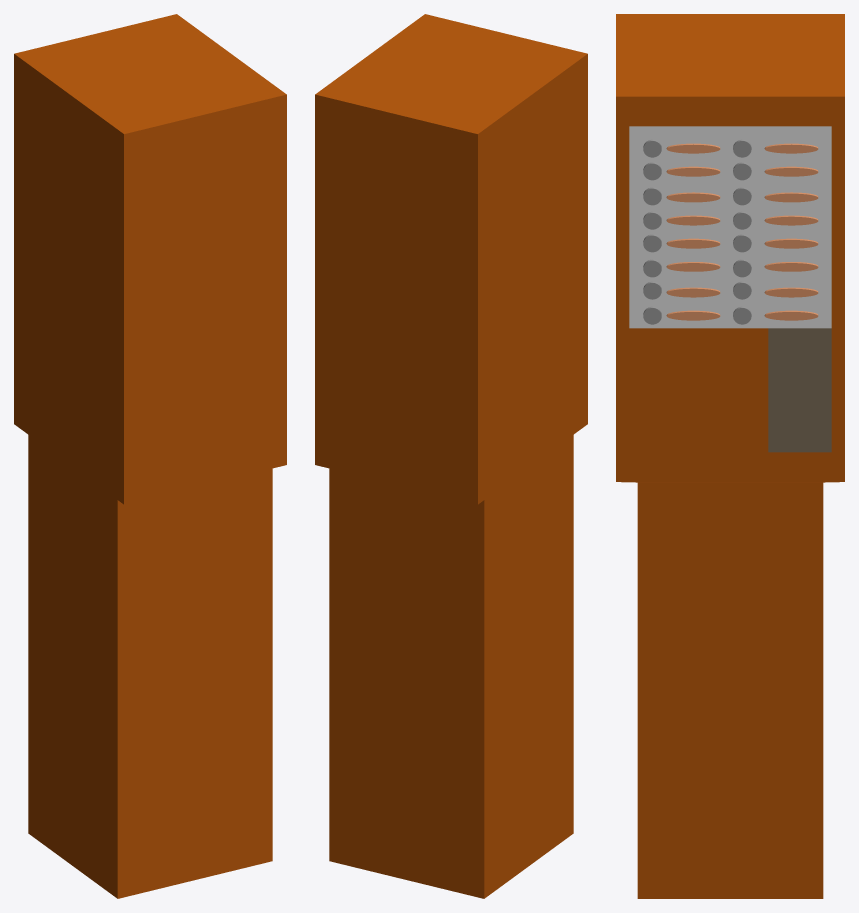
File: TicketMat.glb
The picture shows the model from 3 angles, left to right: view 1: azimuth 30°, elevation 25°; view 2: azimuth 150°, elevation 25°; view 3: azimuth 270°, elevation 25°; orthographic projection. The views are drawn at different scales.
Parts seen in each view (by area): view 1: Cube; view 2: Cube; view 3: Cube.
Boxes of the visible parts, x1,y1,x2,y2 form: Cube: [14, 14, 286, 898]; Cube: [315, 14, 587, 898]; Cube: [616, 14, 844, 898].
Size of the model in its own units: 2.13 by 9.55 by 2.46.
